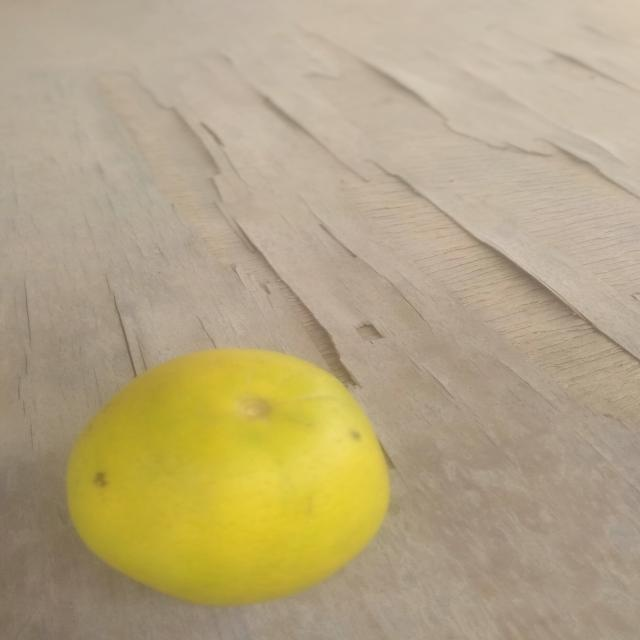agrume: (52, 343, 400, 606)
